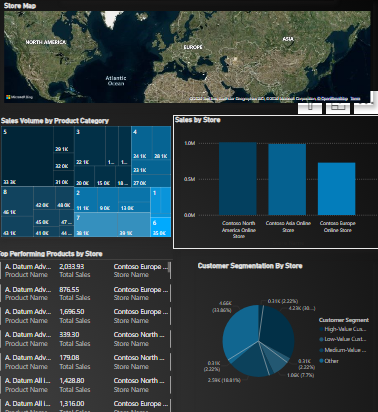

This screenshot's page, from the dashboard's own definition file:
{"tool":"powerbi","page":{"name":"Product & Store Analysis","canvas":[1000,1200],"ordinal":2},"visuals":[{"type":"treemap","title":"Sales Volume by Product Category","fields":{"Group":["Product Category.ProductCategoryKey"],"Details":["Product Subcategory.ProductSubcategoryKey"],"Values":["Sales.Total Units Sold"]},"box":[50,435,417.5,300],"z":0},{"type":"clusteredColumnChart","title":"Sales by Store","fields":{"Category":["Store.Store Name"],"Y":["Sales.Total Sales"]},"box":[467.5,437.5,495,320],"z":1000},{"type":"filledMap","title":"Store Map","fields":{"Category":["Store.City"],"Y":["Sales.Total Sales"]},"box":[57.5,162.5,890,250],"z":2000},{"type":"pieChart","title":" Customer Segmentation By Store","fields":{"Y":["CountNonNull(Store.Store Name)","CountNonNull(Sales.CustomerKey)"],"Category":["Customer.Customer Segment"]},"box":[522.5,787.5,425,365],"z":3000},{"type":"multiRowCard","title":"Top Performing Products by Store","fields":{"Values":["Product.Product Name","Sales.Total Sales","Store.Store Name"]},"box":[40.8,758.4,427.2,412.8],"z":4000},{"type":"pageNavigator","box":[193.3,113.3,660,50],"z":5000},{"type":"textbox","box":[40,30,580,83.3],"z":8000}]}

Visuals, with their boxes on the page's 1000x1200 design canvas (x1, y1, x2, y2). These are canvas units, not pixel positions in the 378x412 screenshot, which may show the page scaled, cropped or inside an application window:
"Sales Volume by Product Category" treemap: BBox(50, 435, 468, 735)
"Sales by Store" clusteredColumnChart: BBox(468, 438, 962, 758)
"Store Map" filledMap: BBox(58, 162, 948, 412)
" Customer Segmentation By Store" pieChart: BBox(522, 788, 948, 1152)
"Top Performing Products by Store" multiRowCard: BBox(41, 758, 468, 1171)
pageNavigator: BBox(193, 113, 853, 163)
textbox: BBox(40, 30, 620, 113)
